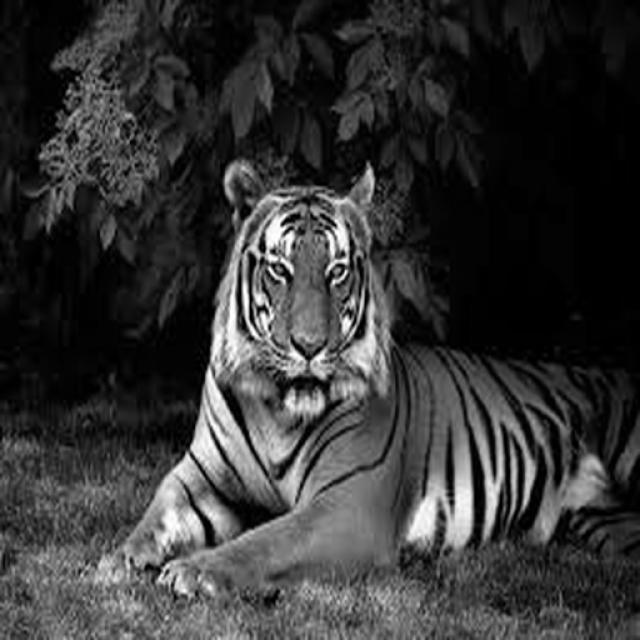Tiger: (95, 155, 639, 610)
